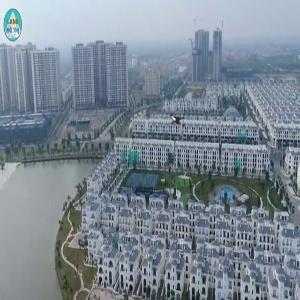drone: (158, 99, 202, 143)
